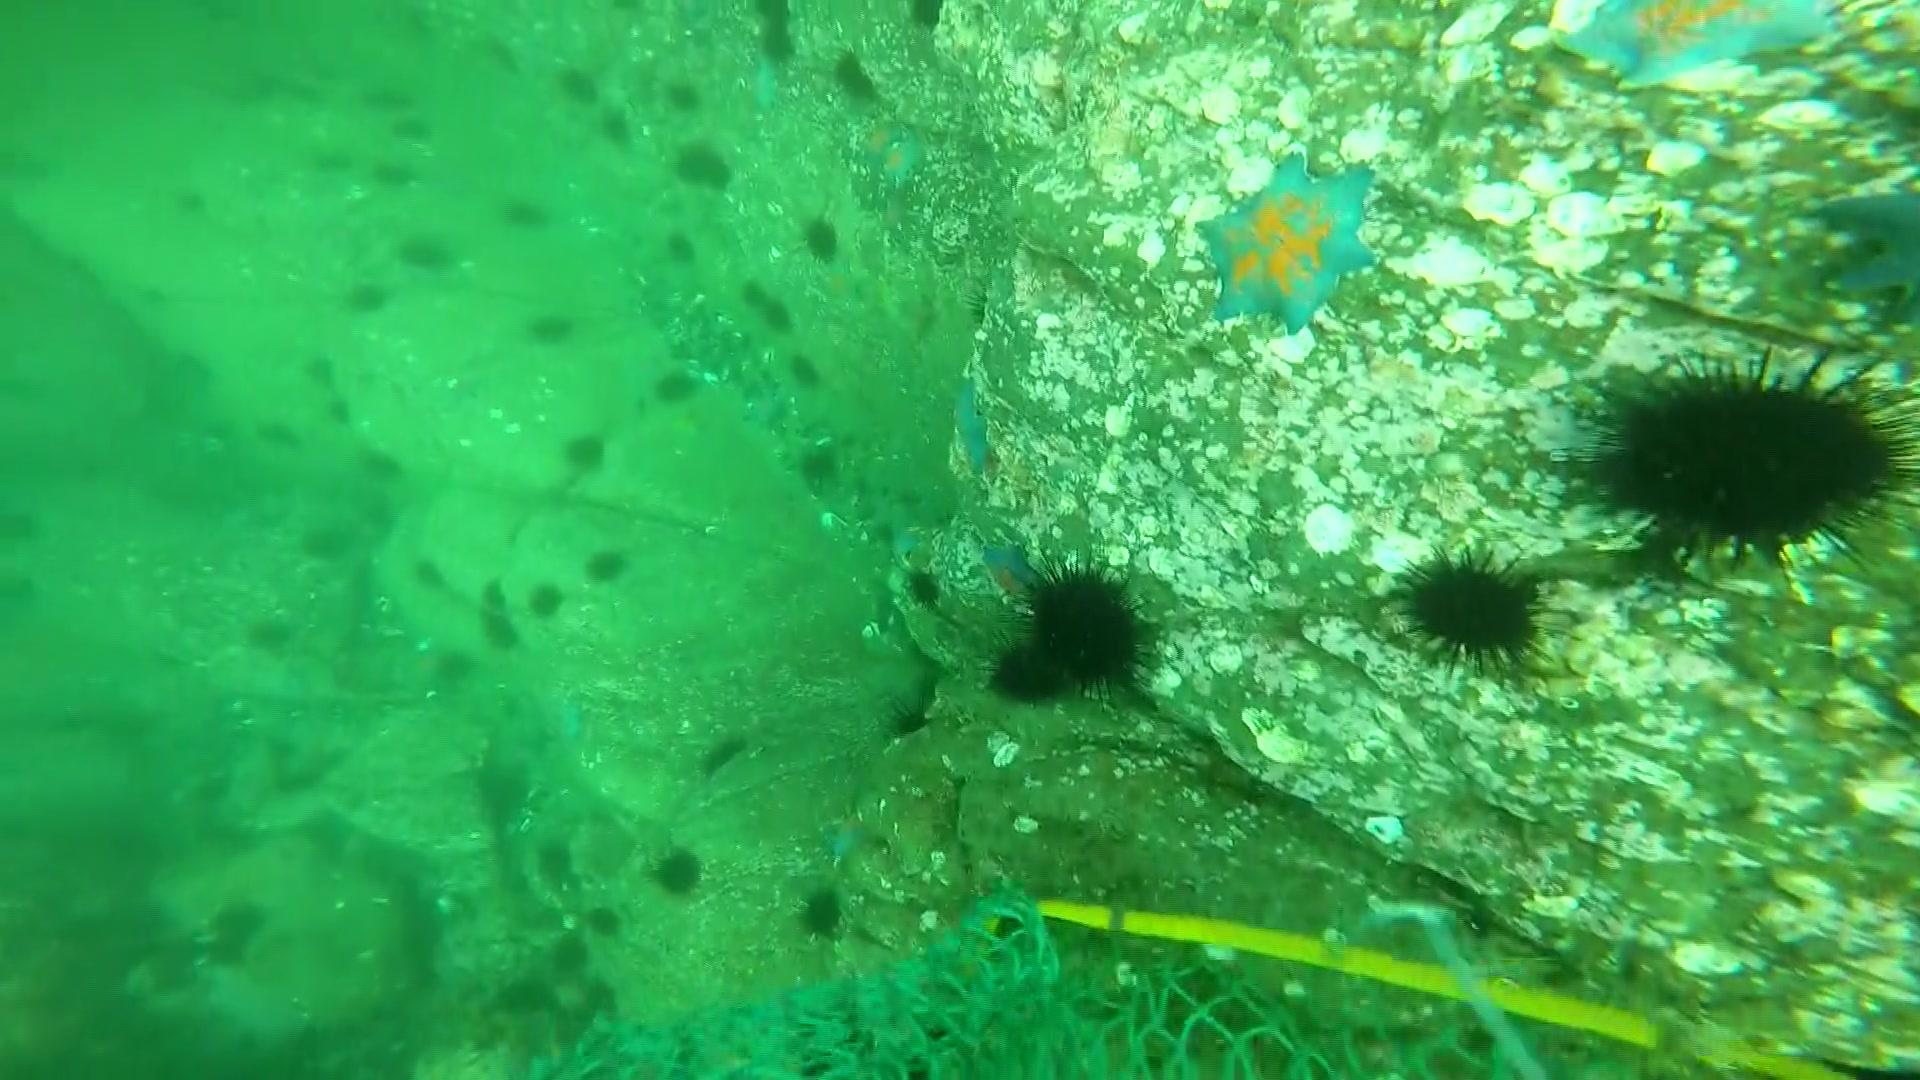echinus: (1553, 344, 1920, 582), (1385, 543, 1559, 683), (1025, 553, 1147, 699), (982, 644, 1069, 709), (795, 884, 849, 945), (882, 684, 935, 741), (651, 847, 707, 899), (673, 146, 733, 193), (832, 47, 880, 105), (498, 975, 555, 1021), (493, 194, 559, 233), (214, 899, 266, 948), (799, 215, 845, 268), (582, 545, 633, 589), (702, 736, 752, 781), (531, 841, 578, 889), (564, 430, 612, 475), (798, 448, 845, 492), (903, 562, 945, 611), (651, 368, 703, 407), (396, 233, 448, 272), (760, 22, 806, 66), (1, 501, 44, 549), (244, 616, 295, 654), (1, 560, 40, 611), (363, 86, 425, 116), (310, 146, 359, 182), (560, 69, 601, 111), (436, 647, 479, 688), (549, 934, 592, 973), (299, 527, 349, 560), (357, 447, 405, 481), (529, 583, 568, 622), (389, 115, 440, 145), (483, 615, 525, 651), (369, 162, 419, 193), (789, 353, 829, 390), (171, 186, 214, 220), (530, 313, 574, 345), (600, 108, 634, 149), (907, 1, 953, 32), (491, 37, 524, 79), (585, 905, 624, 939), (253, 419, 298, 448), (347, 282, 389, 313), (666, 229, 700, 266), (669, 82, 702, 115), (413, 556, 447, 588), (738, 278, 770, 310), (752, 3, 794, 26), (483, 579, 513, 609), (764, 305, 794, 334), (305, 355, 335, 384), (326, 398, 355, 425)
starfish: (1189, 146, 1381, 340), (1563, 1, 1841, 98), (1820, 167, 1920, 328), (949, 381, 996, 480), (978, 537, 1038, 589), (878, 136, 922, 181)
